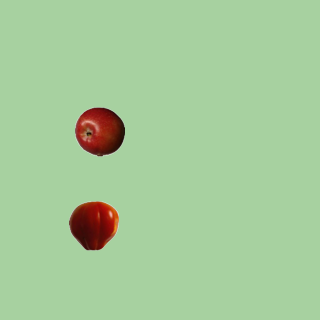Apple Braeburn: (74, 106, 124, 156)
Tomato 1: (68, 200, 118, 250)
